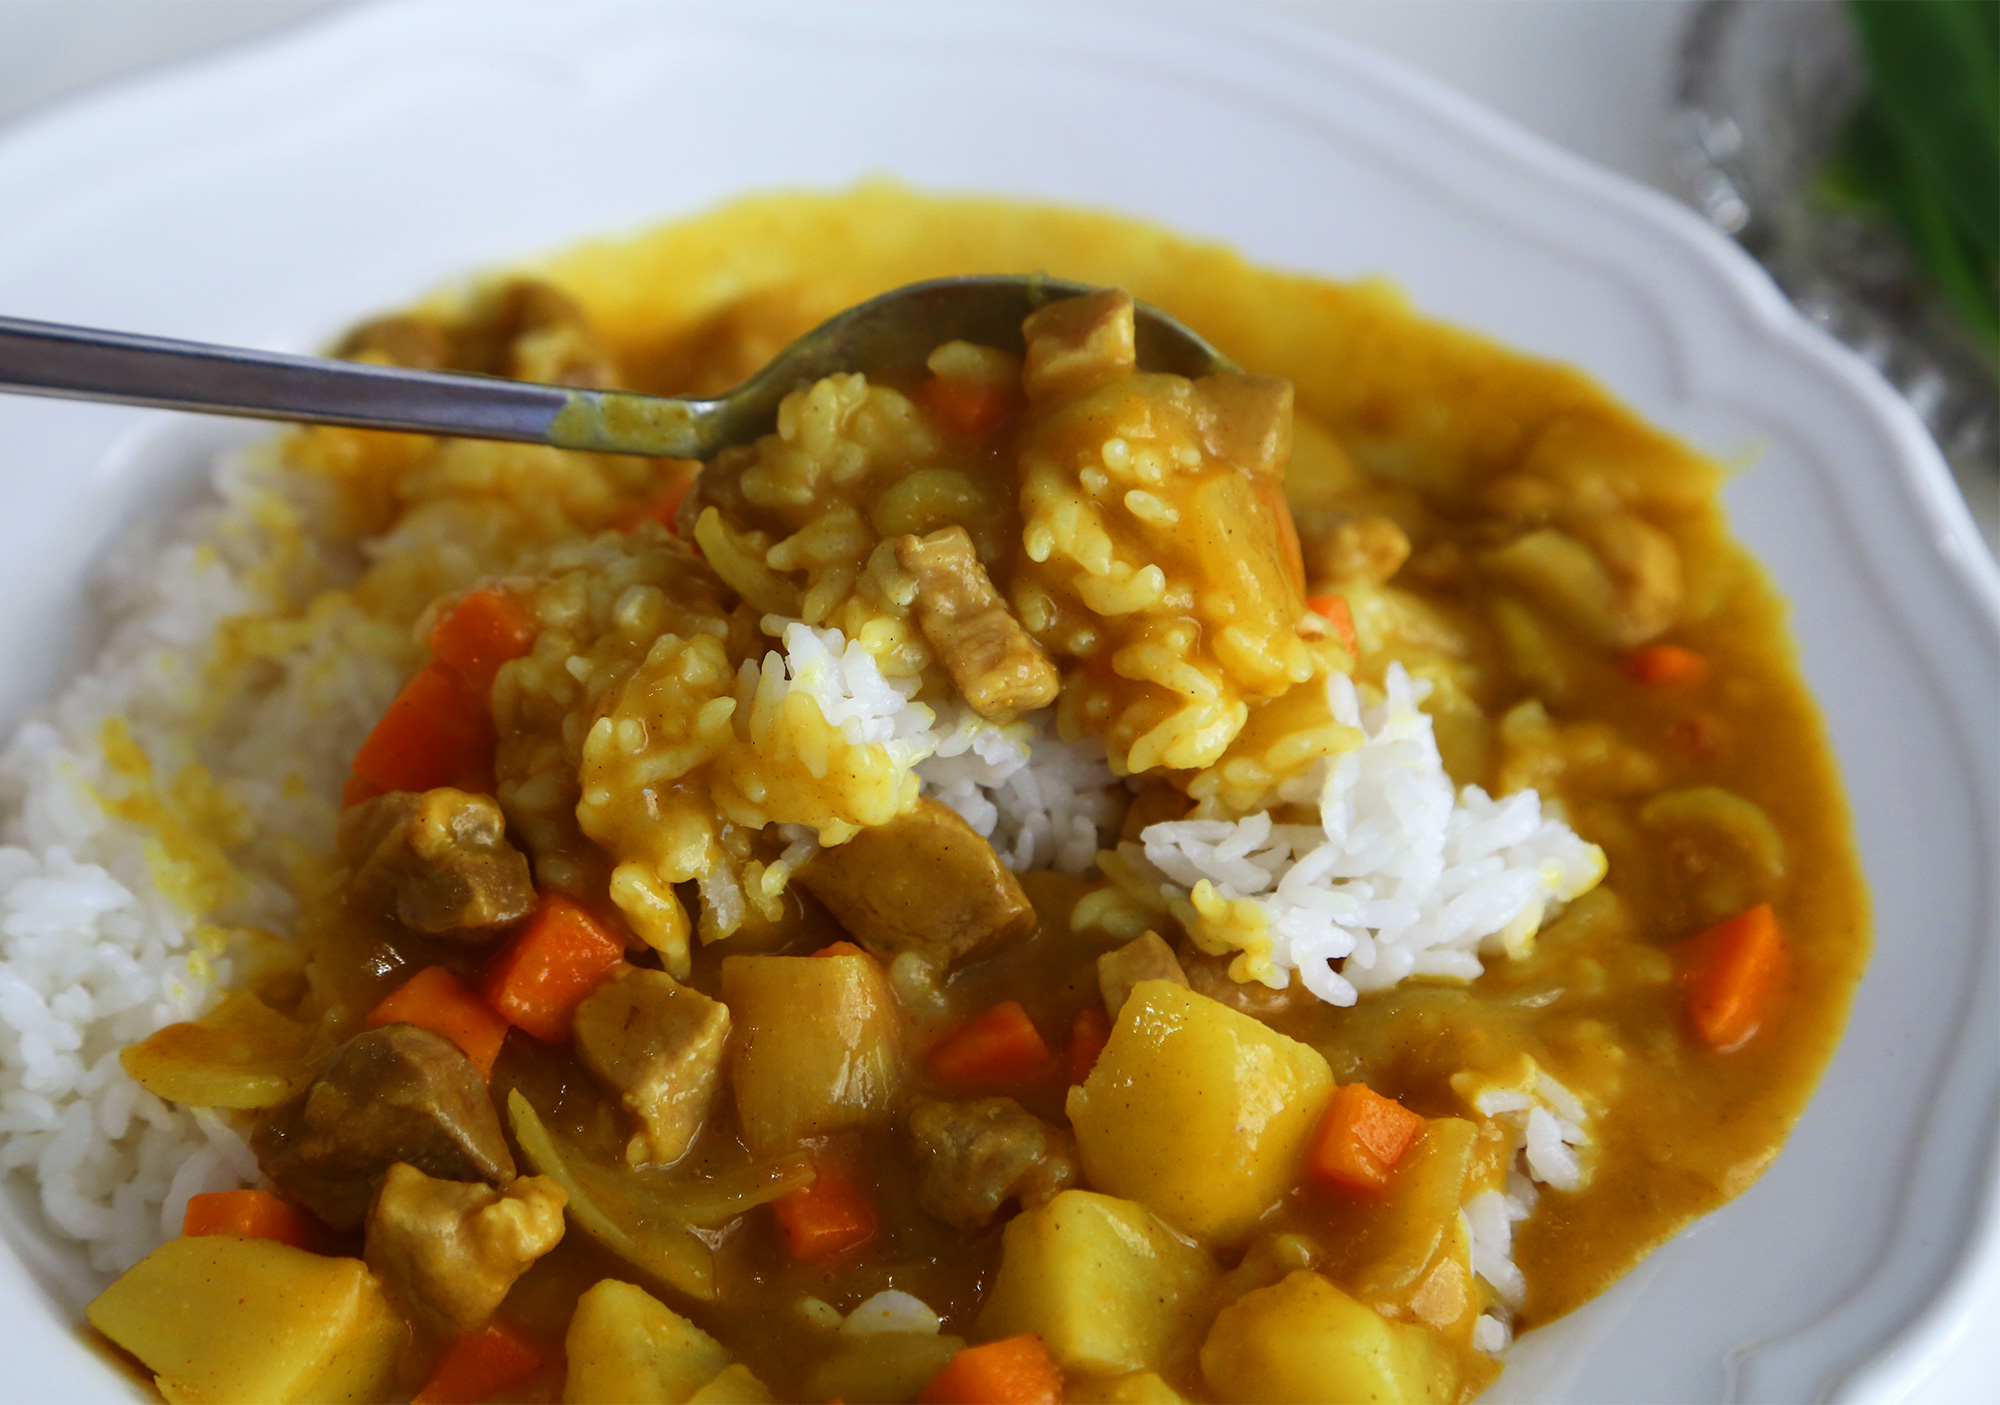curry: (298, 871, 1403, 1391), (524, 208, 1394, 677), (1422, 395, 1850, 1026)
